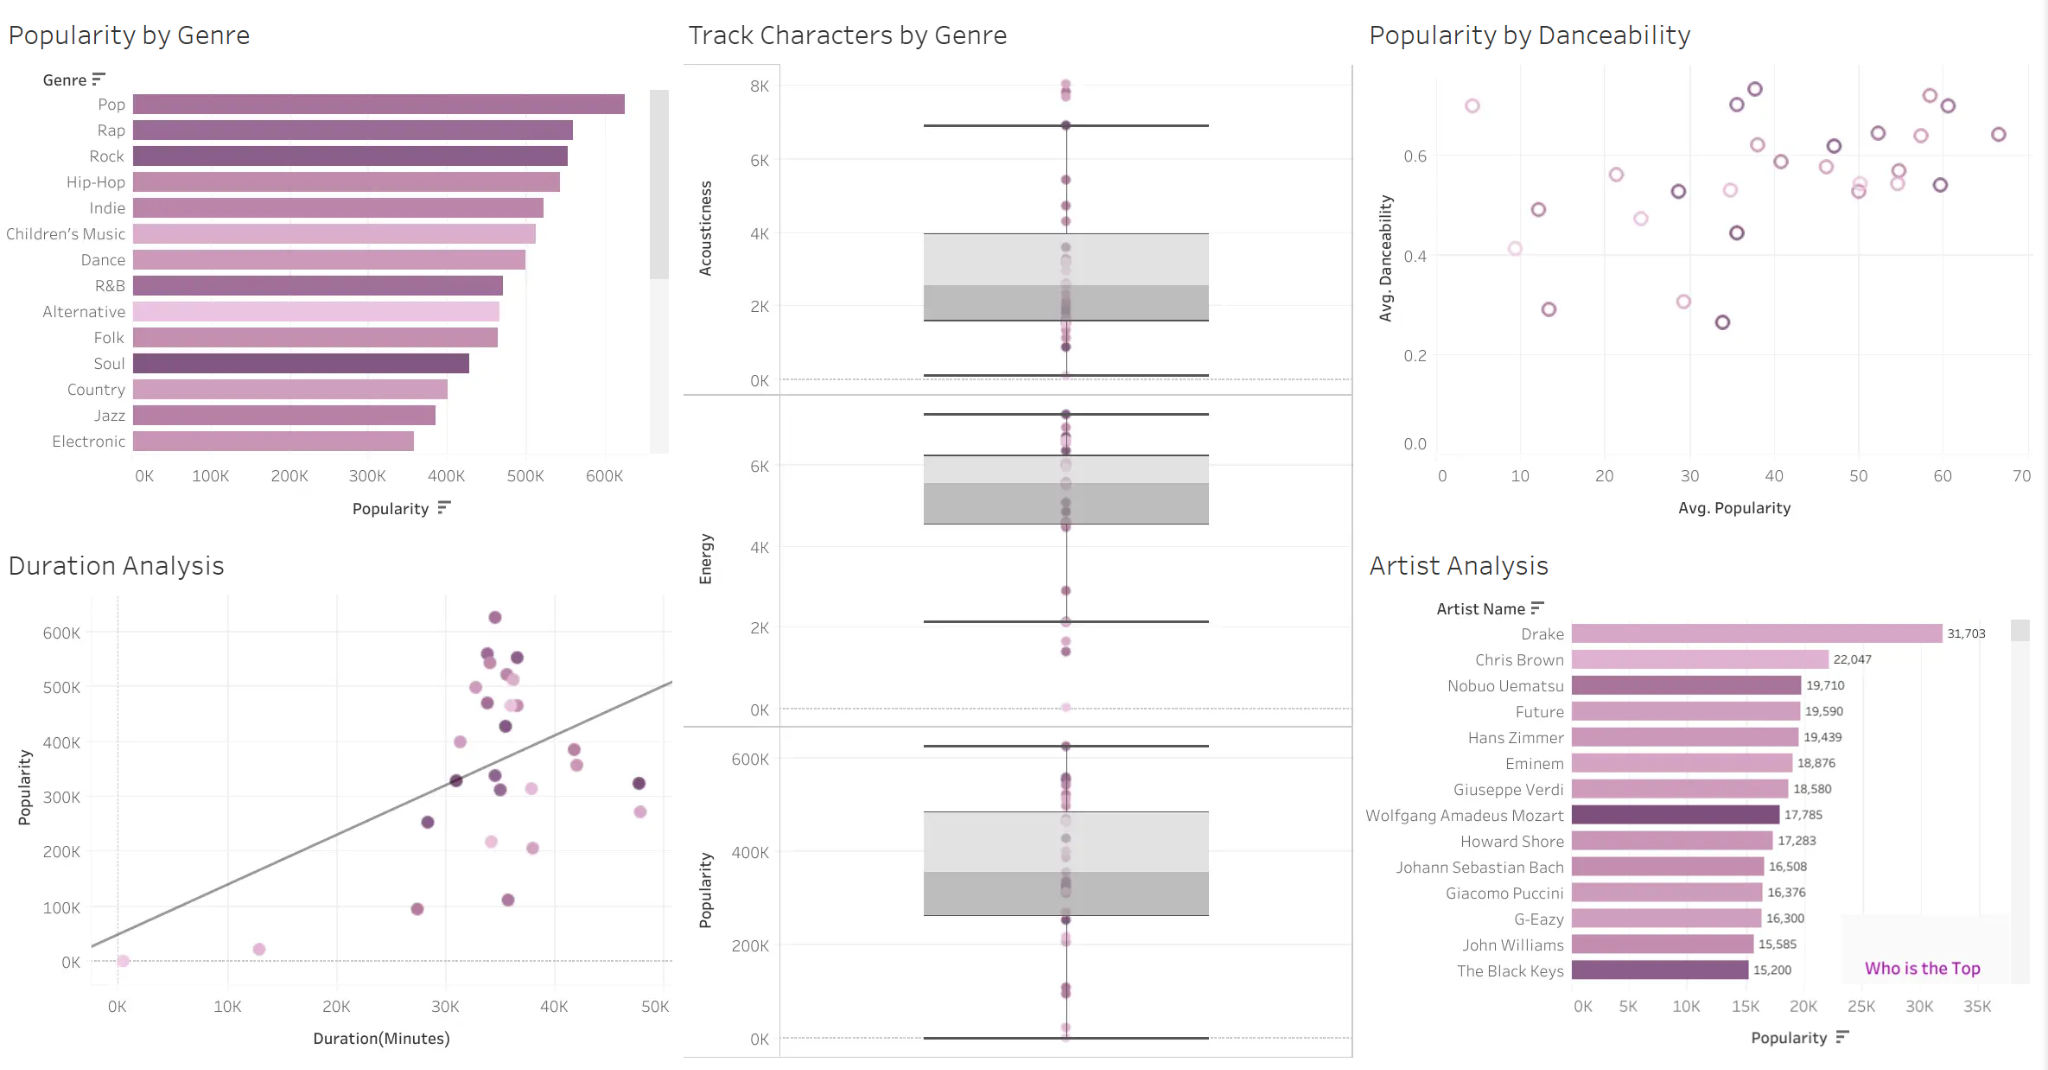

The page's visual inventory and layout, read from the dashboard file:
{"tool":"tableau","page":{"name":"Dashboard 1","canvas":[1000,800],"ordinal":0},"visuals":[{"type":"worksheet","title":"Popularity by Genre","mark":"Automatic","rows":["genre"],"cols":["popularity"],"box":[8,8,328,392]},{"type":"worksheet","title":"Track Characters by Genre","mark":"Circle","rows":["acousticness","energy","popularity"],"box":[336,8,328,784]},{"type":"worksheet","title":"Popularity by Danceability","mark":"Automatic","rows":["danceability"],"cols":["popularity"],"box":[664,8,328,392]},{"type":"worksheet","title":"Duration Analysis","mark":"Circle","rows":["popularity"],"cols":["Calculation_0445310895550465"],"box":[8,400,328,392]},{"type":"worksheet","title":"Artist Analysis","mark":"Automatic","rows":["artist_name"],"cols":["popularity"],"box":[664,400,328,392]}]}

Visuals, with their boxes on the page's 1000x800 design canvas (x1, y1, x2, y2). These are canvas units, not pixel positions in the 2048x1070 screenshot, which may show the page scaled, cropped or inside an application window:
"Popularity by Genre" worksheet: x1=8, y1=8, x2=336, y2=400
"Track Characters by Genre" worksheet (Circle marks): x1=336, y1=8, x2=664, y2=792
"Popularity by Danceability" worksheet: x1=664, y1=8, x2=992, y2=400
"Duration Analysis" worksheet (Circle marks): x1=8, y1=400, x2=336, y2=792
"Artist Analysis" worksheet: x1=664, y1=400, x2=992, y2=792
